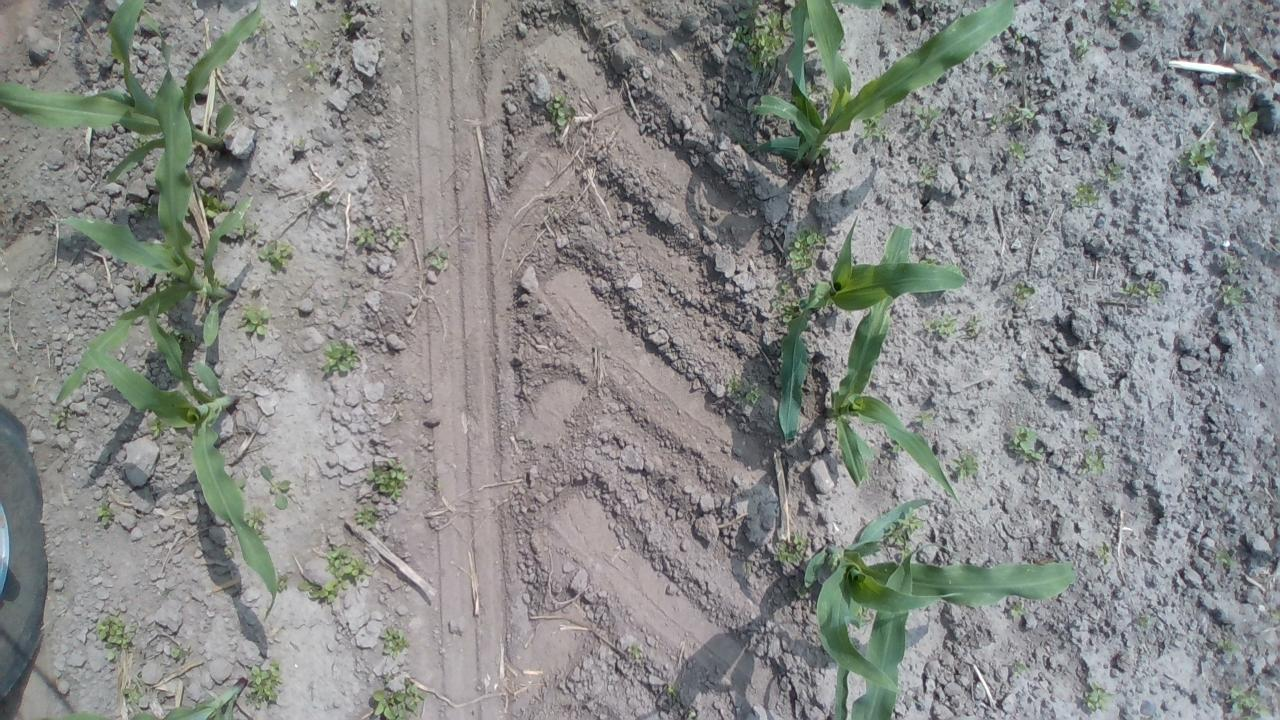Maize: (47, 7, 254, 406), (82, 291, 278, 618), (801, 497, 1079, 694), (0, 0, 260, 188), (751, 0, 1016, 168), (775, 216, 969, 443), (826, 223, 964, 510), (828, 544, 969, 720), (786, 0, 884, 156), (28, 677, 244, 720)
Weeds: (730, 0, 792, 70), (320, 546, 372, 602), (372, 675, 427, 720), (368, 457, 412, 503), (788, 226, 826, 276), (245, 660, 284, 708), (1228, 684, 1276, 720), (986, 99, 1036, 130), (886, 507, 924, 546), (96, 612, 136, 648), (260, 465, 292, 509), (1177, 138, 1219, 171), (1008, 426, 1044, 462), (321, 340, 356, 374), (259, 240, 293, 274), (727, 375, 763, 406), (236, 303, 270, 335), (379, 624, 409, 660), (774, 532, 807, 564), (546, 92, 576, 126), (924, 312, 959, 340), (198, 188, 230, 218), (951, 449, 980, 479), (1070, 181, 1102, 208), (1086, 681, 1114, 711), (242, 505, 265, 540), (1234, 107, 1258, 140), (166, 327, 197, 351), (806, 81, 834, 106), (912, 105, 939, 130), (860, 116, 886, 140), (354, 505, 378, 530), (1082, 447, 1104, 474), (384, 222, 404, 251), (779, 298, 801, 323), (426, 244, 448, 269), (1098, 164, 1124, 184), (1221, 284, 1244, 306), (1012, 281, 1034, 304), (235, 215, 259, 236), (1108, 0, 1134, 18), (134, 197, 158, 216), (297, 580, 320, 599), (50, 408, 73, 427), (96, 500, 114, 524), (352, 226, 376, 244), (980, 61, 1008, 76), (121, 684, 142, 704), (158, 273, 180, 292), (1094, 540, 1110, 566), (150, 417, 168, 440), (1146, 280, 1163, 304), (306, 57, 324, 78), (920, 164, 938, 185), (941, 262, 964, 278), (1217, 638, 1241, 652), (1008, 140, 1025, 159), (298, 36, 321, 50), (1116, 282, 1138, 296), (966, 316, 980, 338), (1225, 255, 1242, 273), (1010, 600, 1027, 618), (132, 131, 150, 147), (914, 410, 934, 424), (1216, 549, 1232, 566), (852, 606, 869, 622), (920, 255, 940, 268), (170, 646, 186, 662), (1090, 118, 1108, 132), (1014, 660, 1028, 678), (1084, 423, 1098, 440), (1075, 38, 1088, 56), (254, 18, 267, 35), (340, 10, 352, 28), (628, 644, 641, 660), (148, 84, 162, 98), (777, 282, 791, 296), (214, 273, 227, 288), (319, 190, 332, 205), (276, 573, 288, 589), (795, 585, 808, 599), (223, 542, 235, 557), (828, 159, 841, 172), (900, 546, 914, 558), (666, 682, 678, 696), (175, 440, 186, 454), (1148, 0, 1160, 11), (106, 650, 118, 661), (1139, 616, 1152, 626), (236, 478, 246, 489), (295, 136, 307, 145), (1270, 608, 1280, 618), (771, 299, 782, 308), (893, 441, 902, 452), (1014, 34, 1022, 43), (688, 710, 696, 718), (184, 209, 191, 218), (844, 310, 852, 315)
